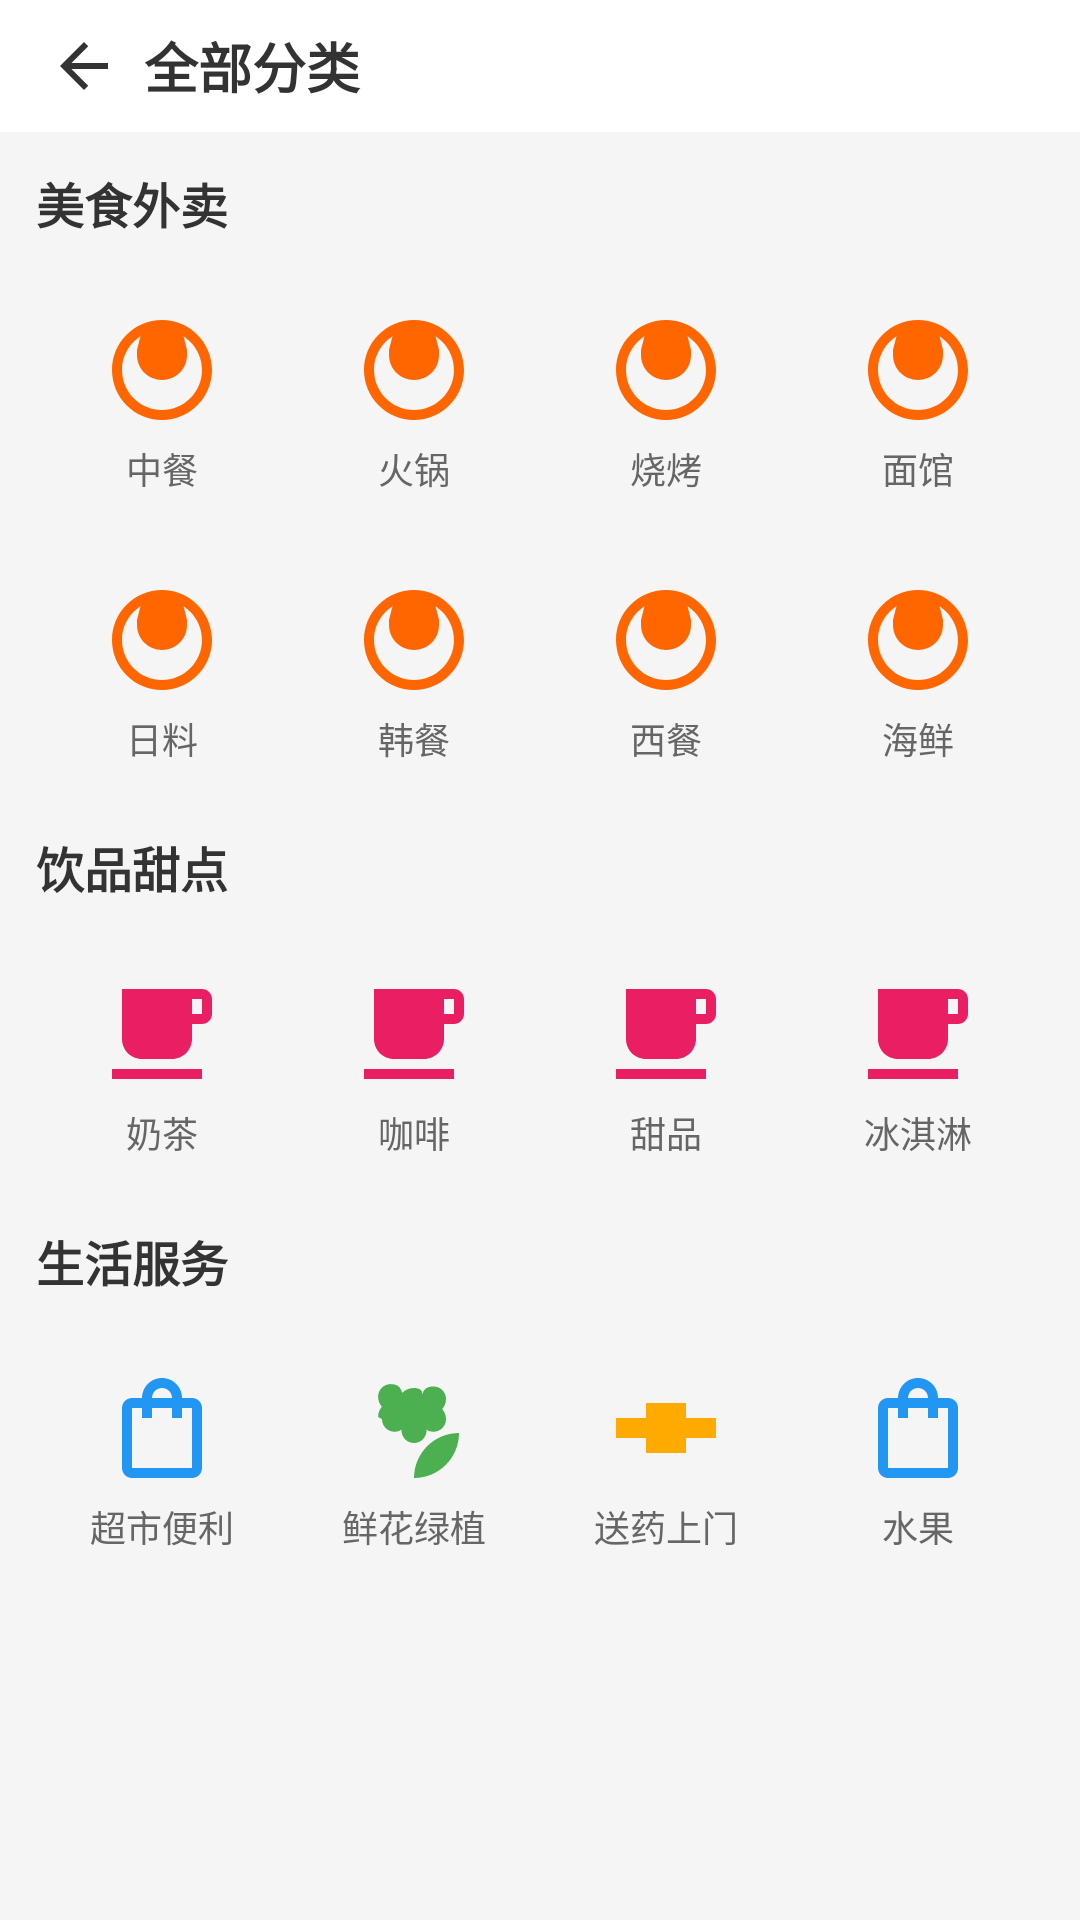

Screen size 1080*1920. Icon name, then its box in pixels as (x1, y1, x2, y2):
arrow back: (60, 42, 108, 90)
category drink: (112, 989, 212, 1079), (364, 989, 464, 1079), (616, 989, 716, 1079), (868, 989, 968, 1079)
category food: (112, 320, 212, 420), (364, 320, 464, 420), (616, 320, 716, 420), (868, 320, 968, 420), (112, 590, 212, 690), (364, 590, 464, 690), (616, 590, 716, 690), (868, 590, 968, 690)
